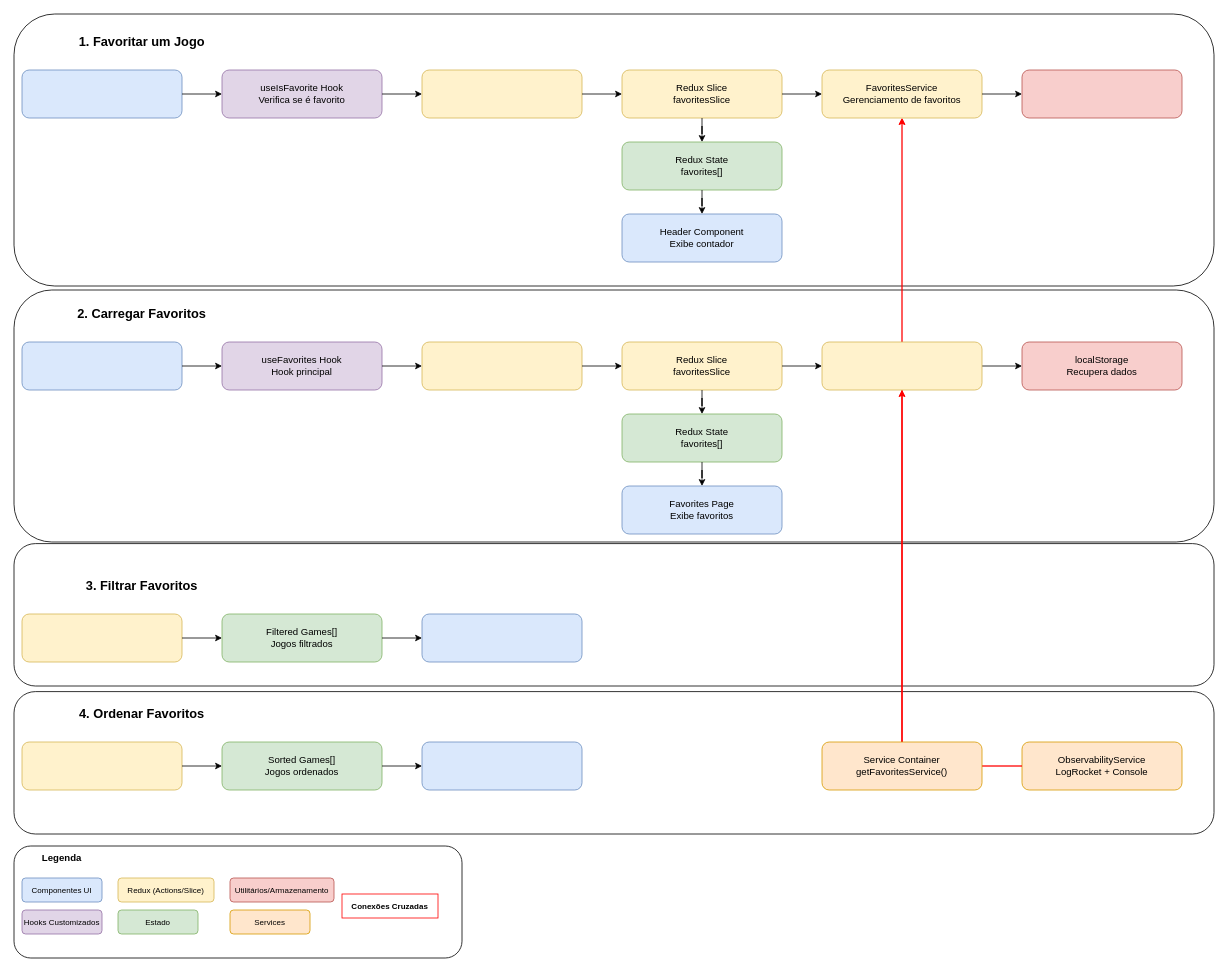
Some shapes in this 1228 by 972 pixel diagram are drawn without their labels. Each missing label, with the centre of its shape:
App Component Inicialização: (x=101, y=365)
Async Thunk loadFavoritesFromStorage: (x=501, y=365)
Card Component FavoriteButton: (x=101, y=93)
Favorites Page Exibe filtrados: (x=501, y=637)
Favorites Page Exibe ordenados: (x=501, y=765)
FavoritesService Carrega dados: (x=901, y=365)
localStorage Persistência de dados: (x=1101, y=93)
Redux Action toggleFavorite(game): (x=501, y=93)
Selector Memoizado selectFavoritesByGenre: (x=101, y=637)
Selector Memoizado selectFavoritesSorted: (x=101, y=765)
